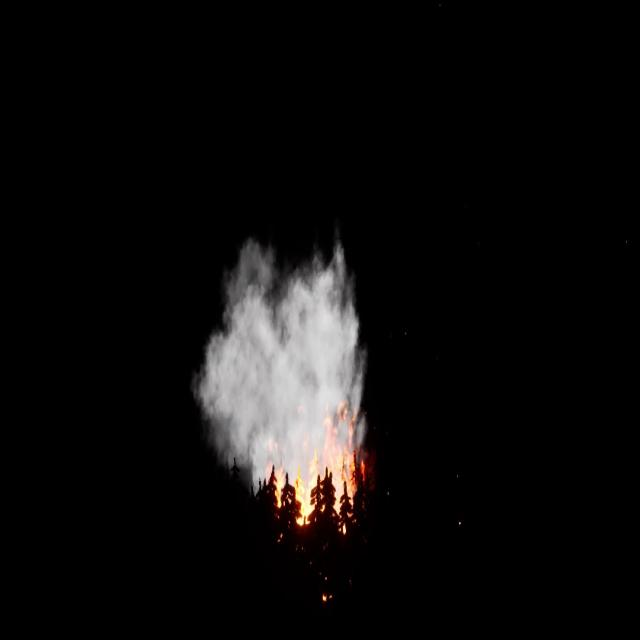fire: (257, 400, 367, 522)
smoke: (194, 226, 373, 488)
